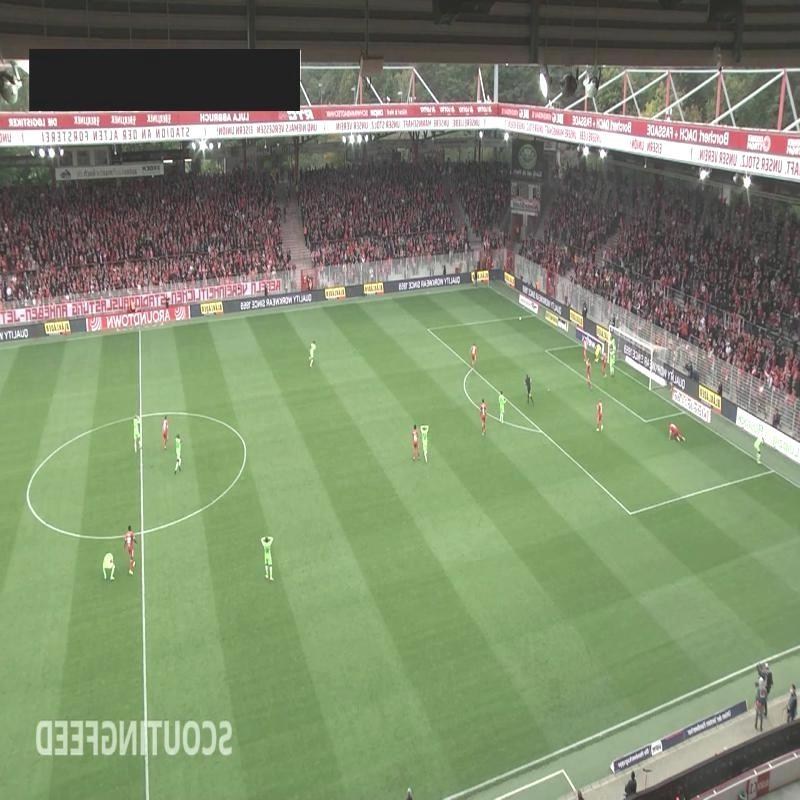1: (481, 280, 495, 294)
10: (465, 362, 479, 376)
11: (534, 424, 548, 439)
12: (624, 507, 638, 521)
13: (133, 322, 147, 336)
14: (134, 408, 148, 423)
15: (135, 526, 149, 540)
2: (528, 309, 542, 323)
3: (576, 339, 590, 353)
4: (676, 406, 692, 419)
5: (766, 462, 781, 480)
7: (539, 344, 553, 358)
8: (638, 412, 652, 426)
9: (421, 322, 435, 336)
c: (20, 482, 34, 500), (240, 443, 254, 458)
